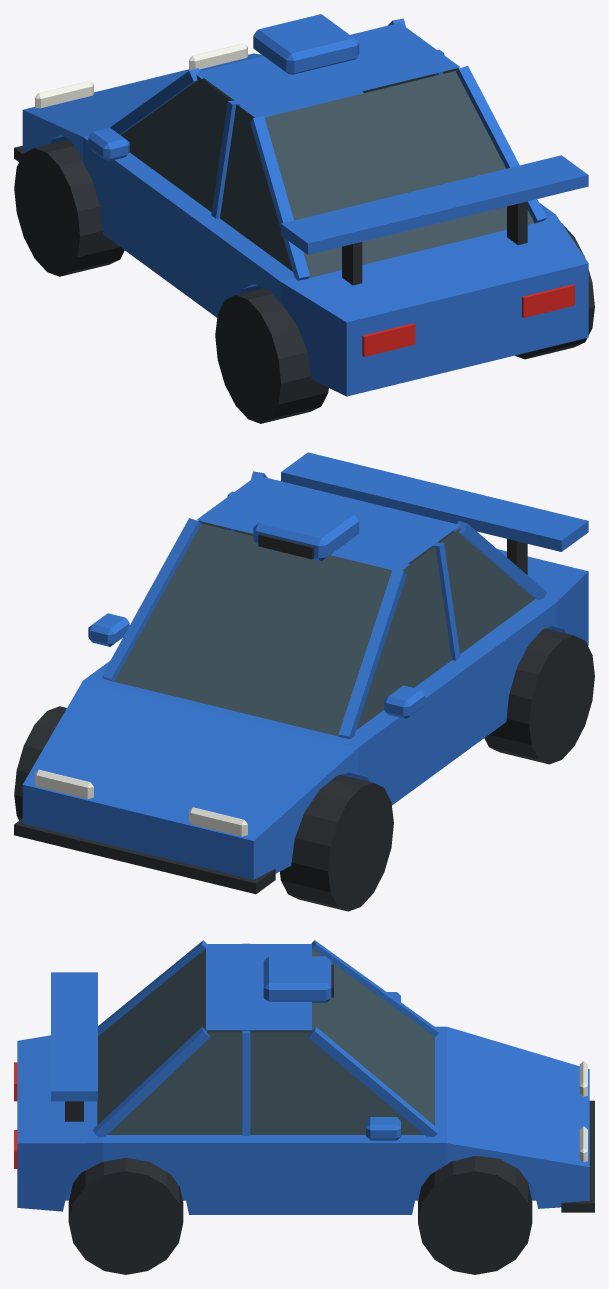
The model's file is car_dirt.glb.
3 views of the same model, one above another, from view 1: azimuth 30°, elevation 25°; view 2: azimuth 150°, elevation 25°; view 3: azimuth 270°, elevation 25° (orthographic). The views are drawn at different scales.
Parts seen in each view (by area): view 1: Body.002, CabinGlass.002, RearWing.001, Wheel_Rear_L.002, Roof.002, Wheel_Front_L.002, RoofScoop, CabinPillar.008, CabinPillar.009, CabinPillar.011, TailLight.004, TailLight.005 (+7 smaller); view 2: Body.002, CabinGlass.002, Wheel_Front_L.002, RearWing.001, Wheel_Rear_L.002, Roof.002, FrontSplitter.002, RoofScoop, CabinPillar.011, CabinPillar.010, Wheel_Front_R.002, CabinPillar.008 (+6 smaller); view 3: Body.002, CabinGlass.002, Wheel_Front_R.002, Wheel_Rear_R.002, Roof.002, RearWing.001, RoofScoop, CabinPillar.010, CabinPillar.009, CabinPillar.011, CabinPillar.008, FrontSplitter.002 (+2 smaller).
Boxes of the visible parts, <box> form: Body.002: <box>22,53,588,396</box>; CabinGlass.002: <box>121,68,534,277</box>; RearWing.001: <box>281,155,588,254</box>; Wheel_Rear_L.002: <box>215,288,328,423</box>; Roof.002: <box>196,22,460,116</box>; Wheel_Front_L.002: <box>14,139,124,276</box>; RoofScoop: <box>253,14,359,74</box>; CabinPillar.008: <box>250,116,309,280</box>; CabinPillar.009: <box>456,65,546,223</box>; CabinPillar.011: <box>110,68,202,135</box>; TailLight.004: <box>362,323,415,356</box>; TailLight.005: <box>522,284,574,317</box>; Body.002: <box>22,549,588,879</box>; CabinGlass.002: <box>114,520,534,736</box>; Wheel_Front_L.002: <box>280,774,393,911</box>; RearWing.001: <box>281,452,588,551</box>; Wheel_Rear_L.002: <box>484,628,594,764</box>; Roof.002: <box>197,475,460,569</box>; FrontSplitter.002: <box>14,818,275,894</box>; RoofScoop: <box>253,499,359,561</box>; CabinPillar.011: <box>338,568,406,738</box>; CabinPillar.010: <box>102,518,200,681</box>; Wheel_Front_R.002: <box>14,706,66,820</box>; CabinPillar.008: <box>454,521,546,599</box>; Body.002: <box>17,1026,589,1214</box>; CabinGlass.002: <box>97,947,434,1134</box>; Wheel_Front_R.002: <box>418,1156,532,1274</box>; Wheel_Rear_R.002: <box>68,1157,183,1274</box>; Roof.002: <box>206,944,311,1030</box>; RearWing.001: <box>51,972,97,1101</box>; RoofScoop: <box>263,956,331,1002</box>; CabinPillar.010: <box>308,1027,438,1136</box>; CabinPillar.009: <box>93,1027,210,1137</box>; CabinPillar.011: <box>311,940,438,1036</box>; CabinPillar.008: <box>98,940,206,1035</box>; FrontSplitter.002: <box>561,1100,594,1212</box>.
Bounding box in the file's own units: 2.2 × 1.8 × 3.96.
